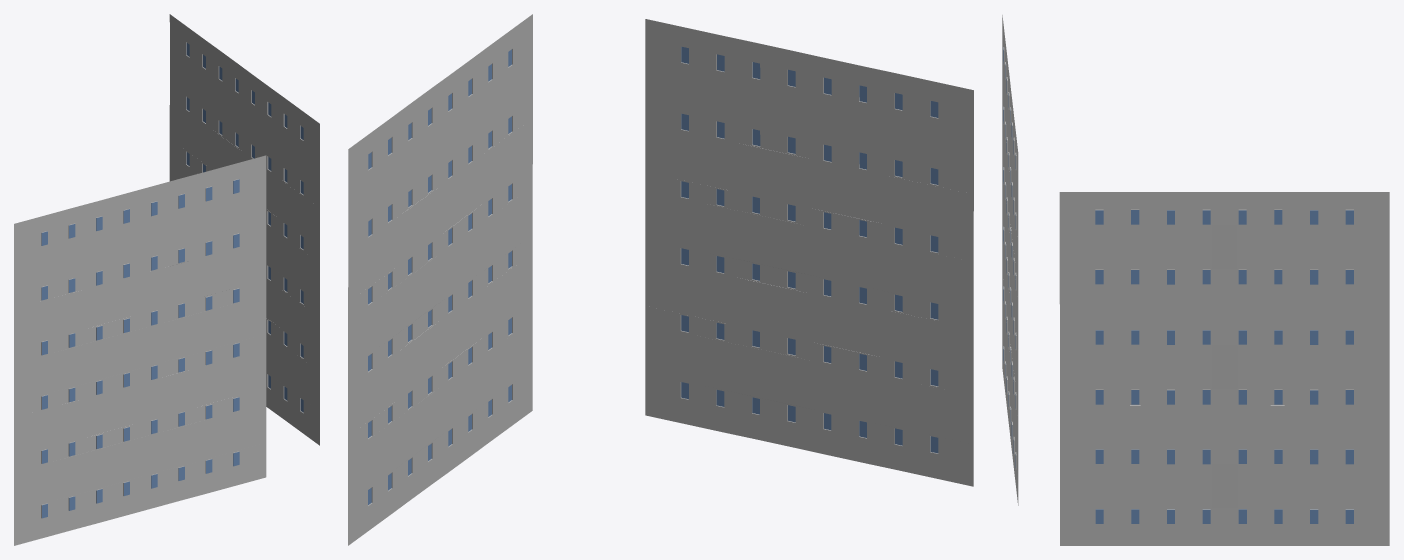
Rendered from Body&Mind_outside_v1.fbx.
The picture shows the model from 3 angles, left to right: view 1: azimuth 30°, elevation 25°; view 2: azimuth 150°, elevation 25°; view 3: azimuth 270°, elevation 25°; orthographic projection. The views are drawn at different scales.
Visible parts, largest first — view 1: Plane.002, Plane.001; view 2: Plane.002, Plane.001; view 3: Plane.001, Plane.002.
Part boxes in pixels (left/top/right/bottom): Plane.002: left=14, top=155, right=266, bottom=545; Plane.001: left=169, top=14, right=319, bottom=445; Plane.002: left=645, top=19, right=973, bottom=486; Plane.001: left=348, top=14, right=532, bottom=545; Plane.001: left=1059, top=192, right=1389, bottom=545; Plane.002: left=1002, top=15, right=1018, bottom=505.
Bounding box in the file's own units: 8556 × 7916 × 7847.
Materials: 2 (2 with a texture image).
